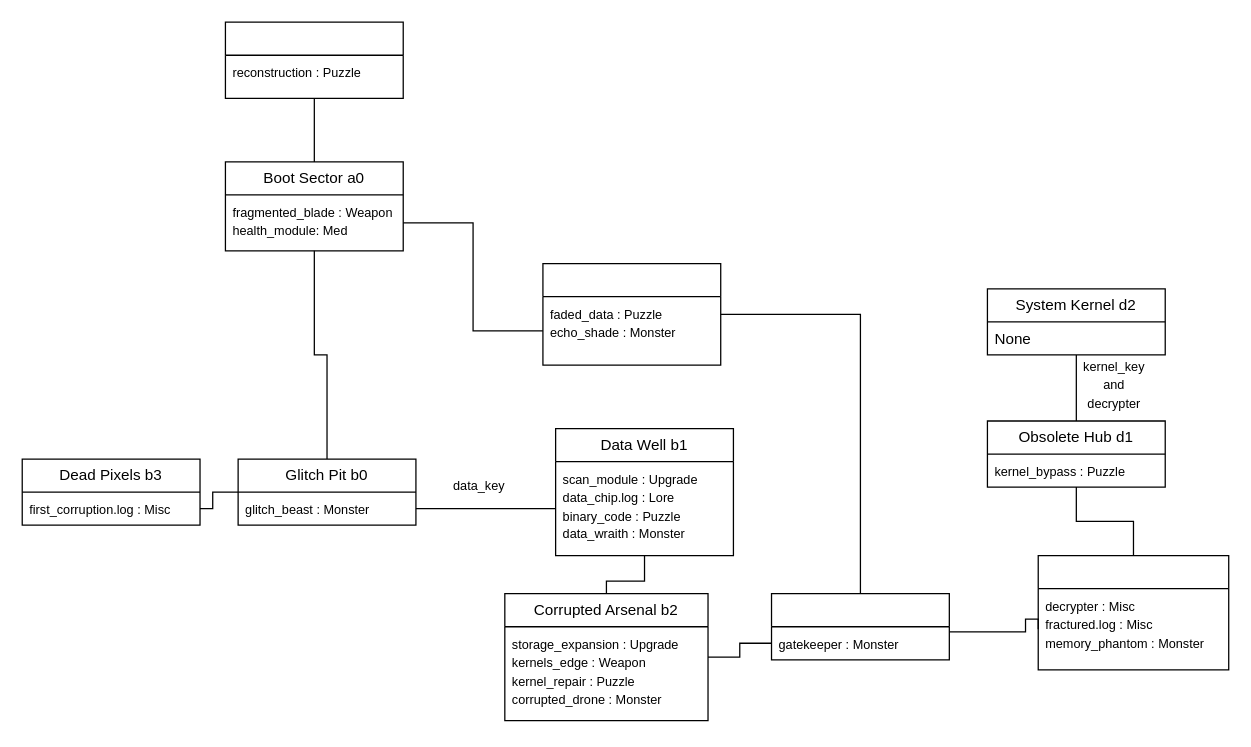
Some shapes in this 1251 by 747 pixel diagram are drawn without their labels. The box of each missing label's shape, as (x1, y1, x2, y2) in pixels:
Fractured Archive c0: (1037, 554, 1229, 670)
Gatekeeper Node c2: (770, 592, 949, 660)
Lost Cache a1: (224, 21, 403, 98)
Phantom Node c0: (542, 262, 721, 365)
